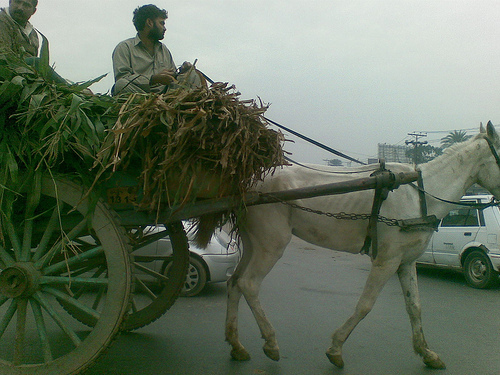horse: (193, 121, 499, 372)
